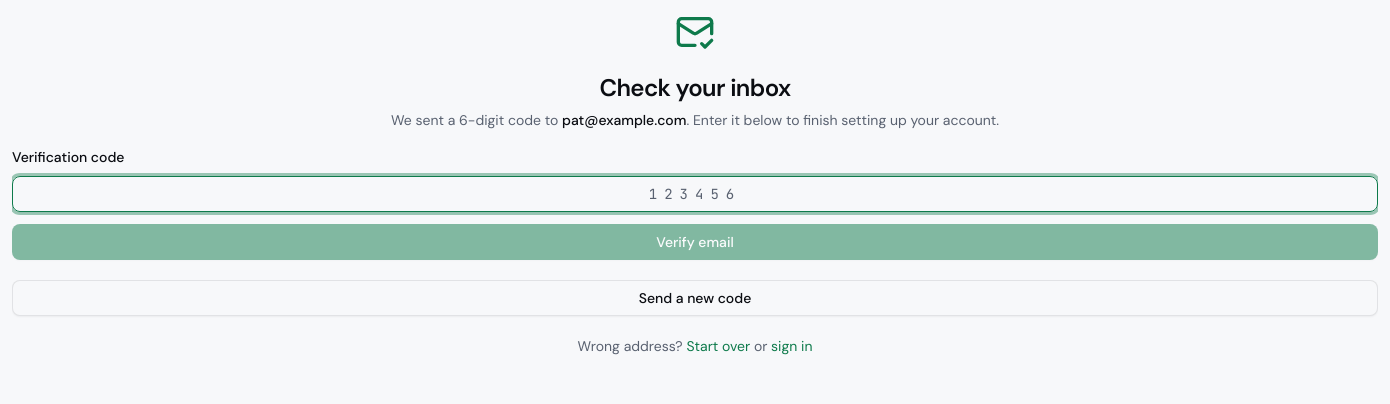
CheckInbox › shows the API's message for a wrong code and stays on the page
Step 1. Type "000000" into the field labelled "Verification code" → [695, 194], box [12, 176, 1378, 212]
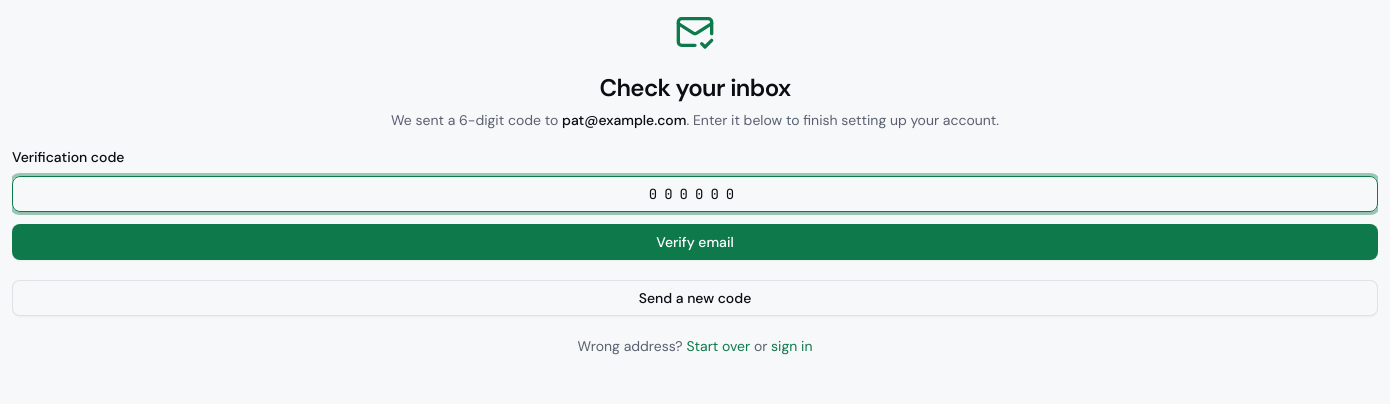
Step 2. Click the button "Verify email" → [695, 242], box [12, 224, 1378, 260]
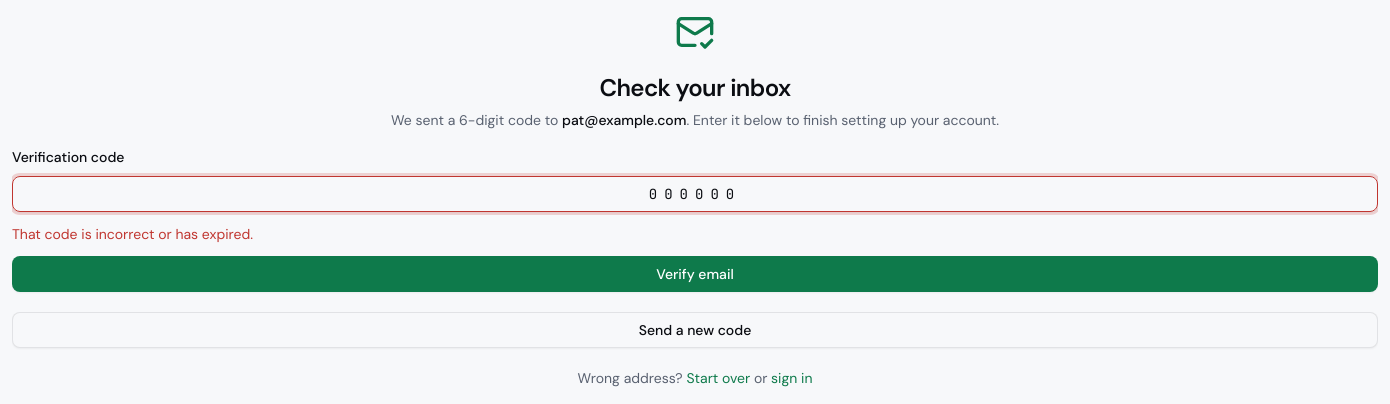
Check: the message reads "That code is incorrect or has expired.", box [12, 225, 253, 243]
